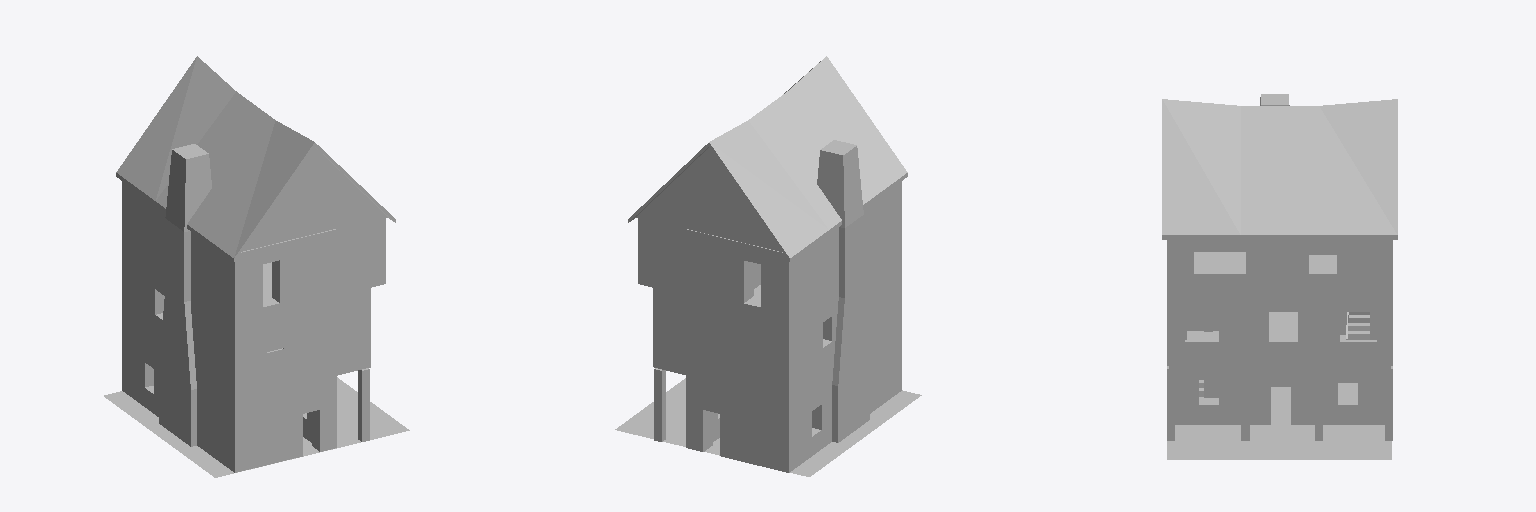
The model's file is ShamblesColl.obj.
3 renders of one model, left to right at view 1: azimuth 30°, elevation 25°; view 2: azimuth 150°, elevation 25°; view 3: azimuth 270°, elevation 25°, orthographic.
Visible parts, largest first — view 1: 11_-_Default; view 2: 11_-_Default; view 3: 11_-_Default.
Boxes of the visible parts, box(x1,y1,x2,y2) form: 11_-_Default: box(104, 56, 409, 477); 11_-_Default: box(615, 56, 921, 476); 11_-_Default: box(1162, 94, 1397, 459).
Bounding box in the file's own units: 76 × 117 × 79.5.